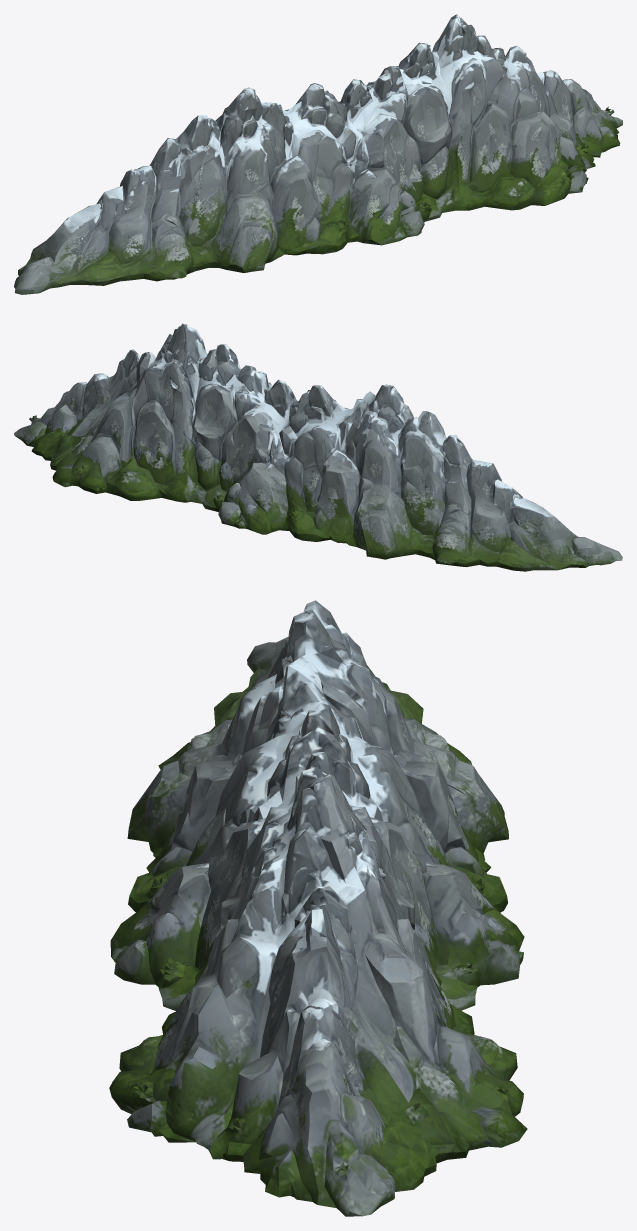
3 renders of one model, top to bottom at view 1: azimuth 30°, elevation 25°; view 2: azimuth 150°, elevation 25°; view 3: azimuth 270°, elevation 25°, orthographic. The views are drawn at different scales.
Visible parts, largest first — view 1: mountain_ridge; view 2: mountain_ridge; view 3: mountain_ridge.
Part boxes in pixels (<box>): mountain_ridge: <box>14,14,622,294</box>; mountain_ridge: <box>14,323,622,571</box>; mountain_ridge: <box>109,600,527,1216</box>.
Bounding box in the file's own units: 0.9817 × 0.2323 × 0.3038.
Materials: 1 (1 with a texture image).
